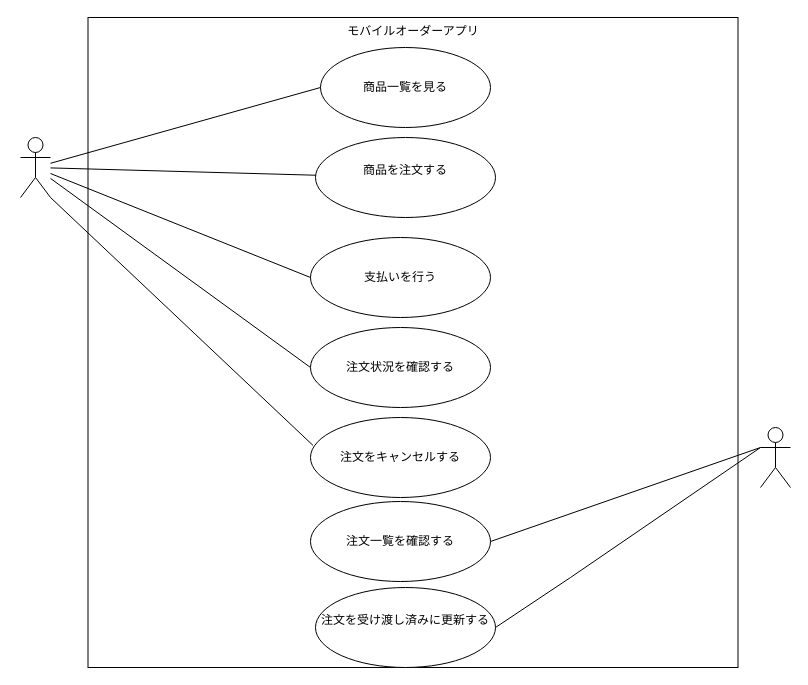
The diagram is 808 pixels wide and 685 high, and some of its shapes have lost their labels. The shapes that lost their labels are listed below. From the top down, each one's centre as x and y in pixels, then its label:
At [35,167]: "お客様".
At [775,457]: "店員".
